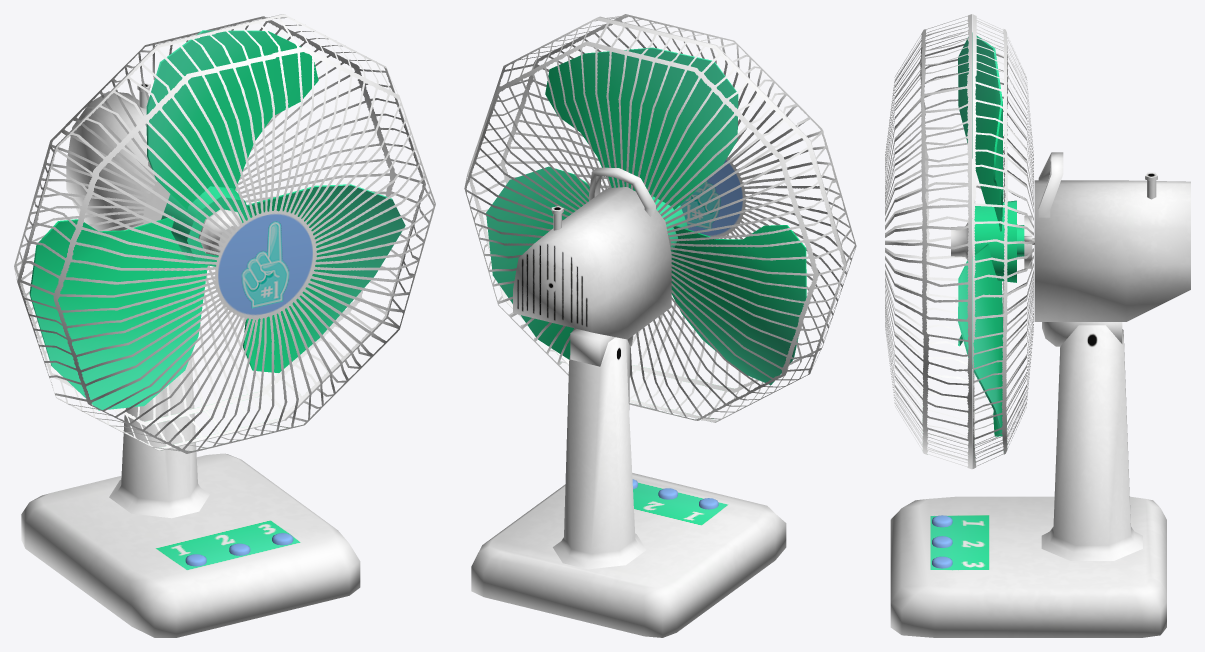
The model's file is Model_Fan.fbx.
3 renders of one model, left to right at view 1: azimuth 30°, elevation 25°; view 2: azimuth 150°, elevation 25°; view 3: azimuth 270°, elevation 25°, orthographic. The views are drawn at different scales.
Visible parts, largest first — view 1: Fan; view 2: Fan; view 3: Fan.
Part boxes in pixels (x1,y1,x2,y2): Fan: (14,14,435,637); Fan: (464,14,856,637); Fan: (885,14,1190,637).
Size of the model in its own units: 47 by 61.31 by 31.31.
